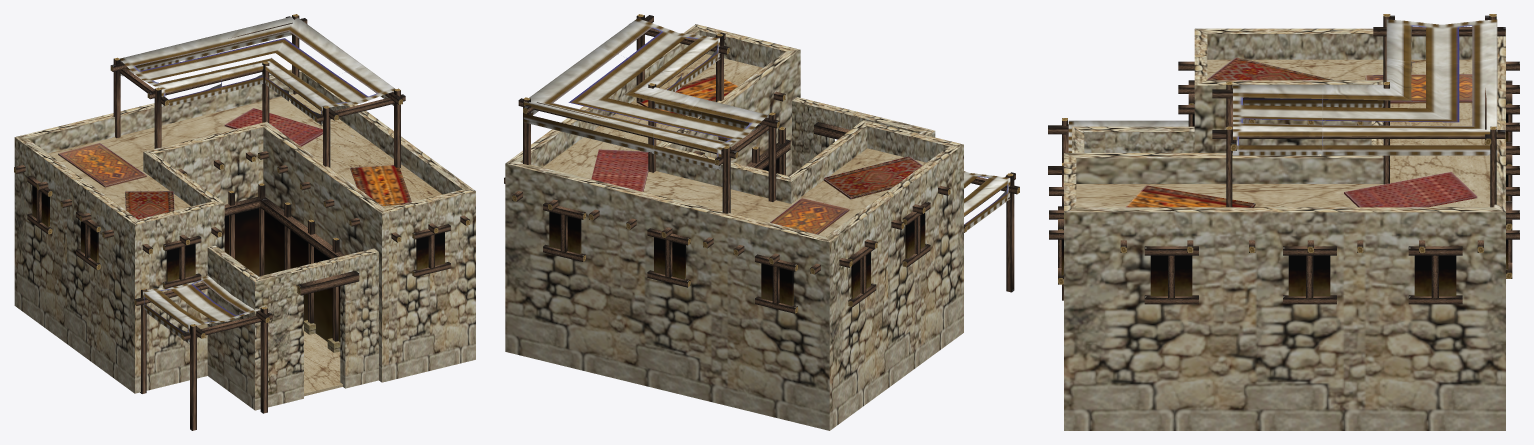
The model's file is farmstead.dae.
3 views of the same model, side by side, from view 1: azimuth 30°, elevation 25°; view 2: azimuth 150°, elevation 25°; view 3: azimuth 270°, elevation 25° (orthographic). The views are drawn at different scales.
Visible parts, largest first — view 1: farmstead; view 2: farmstead; view 3: farmstead.
Boxes of the visible parts, bbox=[...] form: farmstead: bbox=[14, 14, 475, 430]; farmstead: bbox=[504, 14, 1019, 430]; farmstead: bbox=[1048, 14, 1519, 430].
Bounding box in the file's own units: 12.45 × 12.68 × 8.75.
